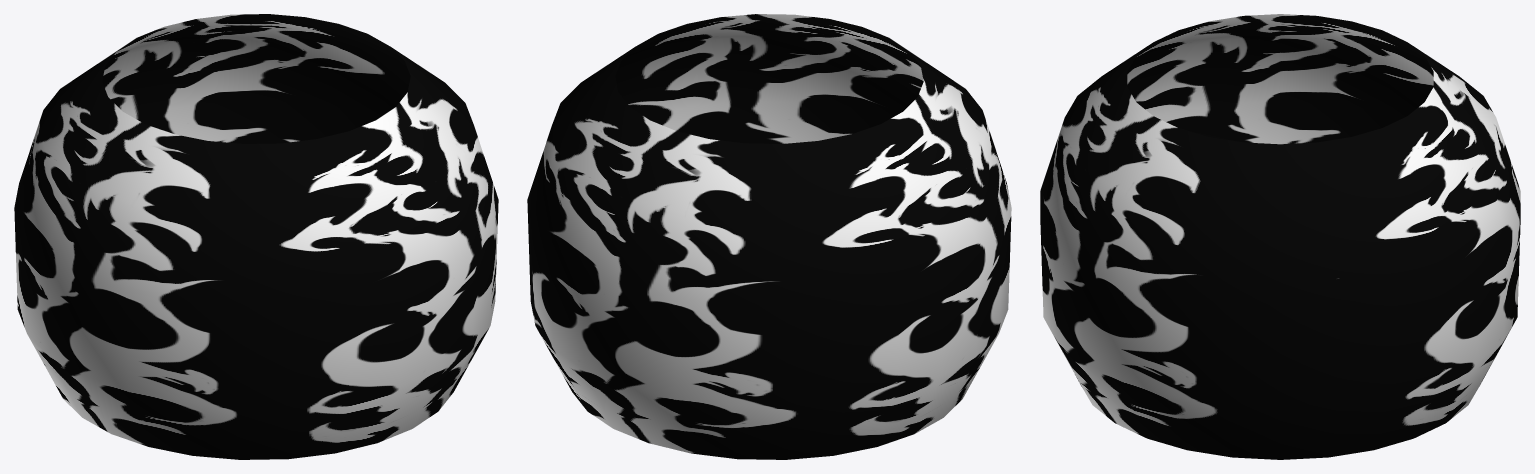
File: FireWallMesh.fbx
The picture shows the model from 3 angles, left to right: view 1: azimuth 30°, elevation 25°; view 2: azimuth 150°, elevation 25°; view 3: azimuth 270°, elevation 25°; orthographic projection.
Parts seen in each view (by area): view 1: pasted__FireWallMesh1; view 2: pasted__FireWallMesh1; view 3: pasted__FireWallMesh1.
Boxes of the visible parts, box(x1,y1,x2,y2) form: pasted__FireWallMesh1: box(14, 14, 498, 459); pasted__FireWallMesh1: box(527, 14, 1011, 459); pasted__FireWallMesh1: box(1040, 14, 1520, 459).
Size of the model in its own units: 163 by 110 by 162.
1 material, 1 textured.
